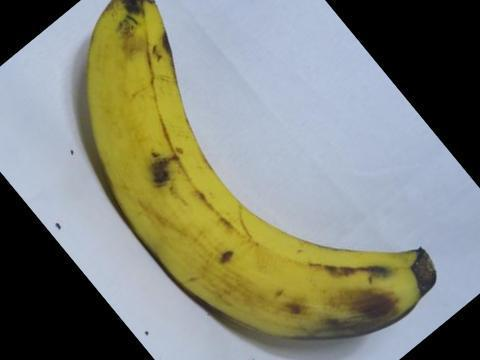ripe: (80, 0, 449, 352)
